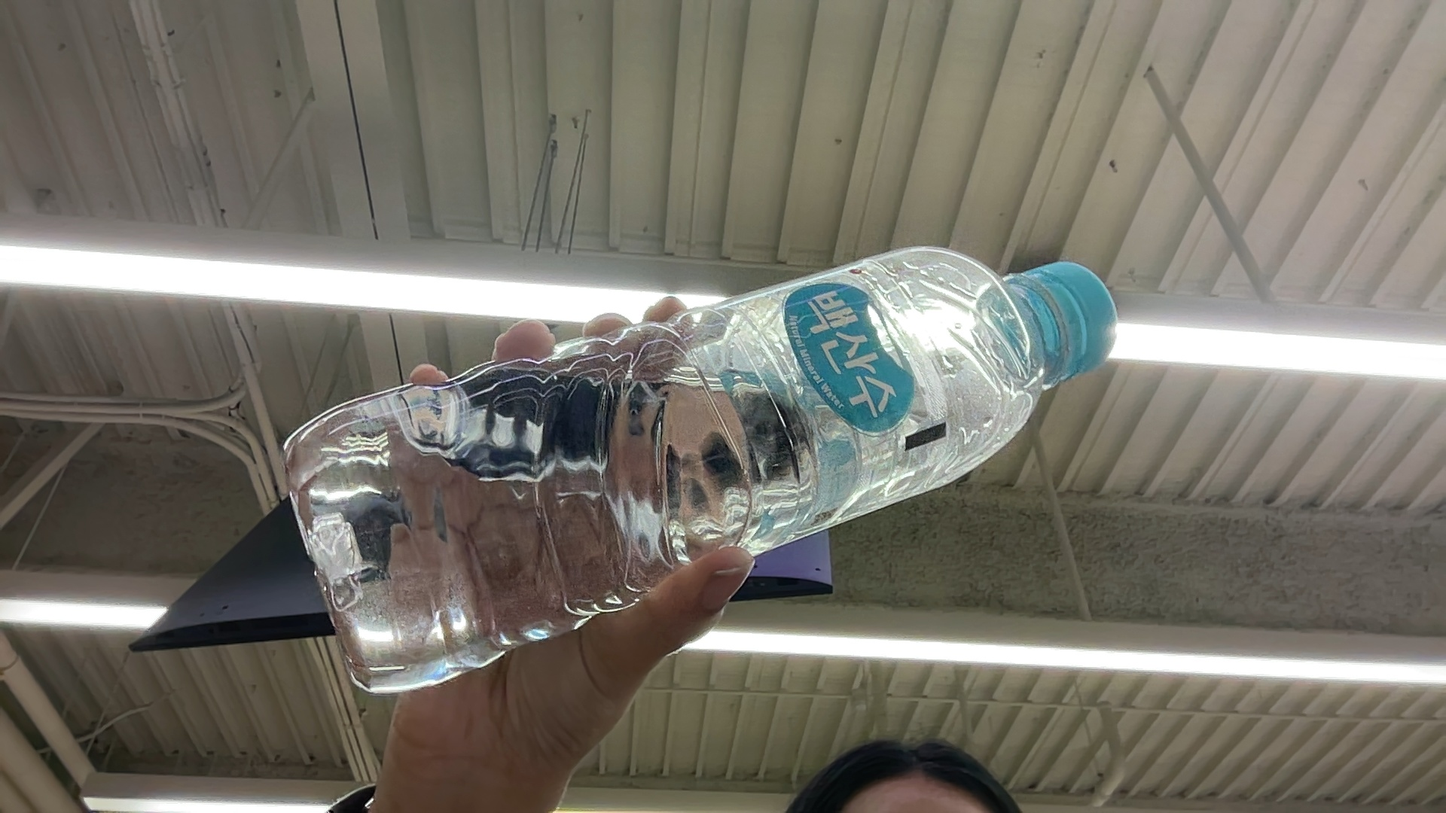Plastic: (4, 406, 268, 602)
